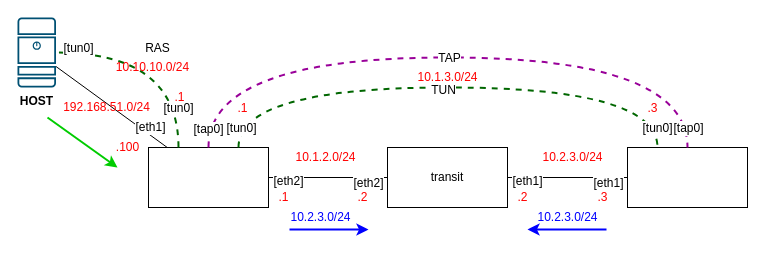
The diagram is 765 pixels wide and 255 high, and some of its shapes have lost their labels. The shapes that lost their labels are listed below. From the top down, each one's centre as x and y in pixels, then its label:
point (208, 177): server
point (687, 177): client
